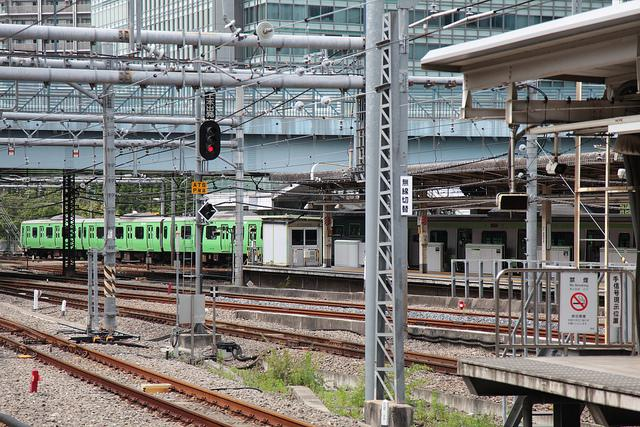Train: (426, 219, 637, 272), (21, 218, 265, 260)
